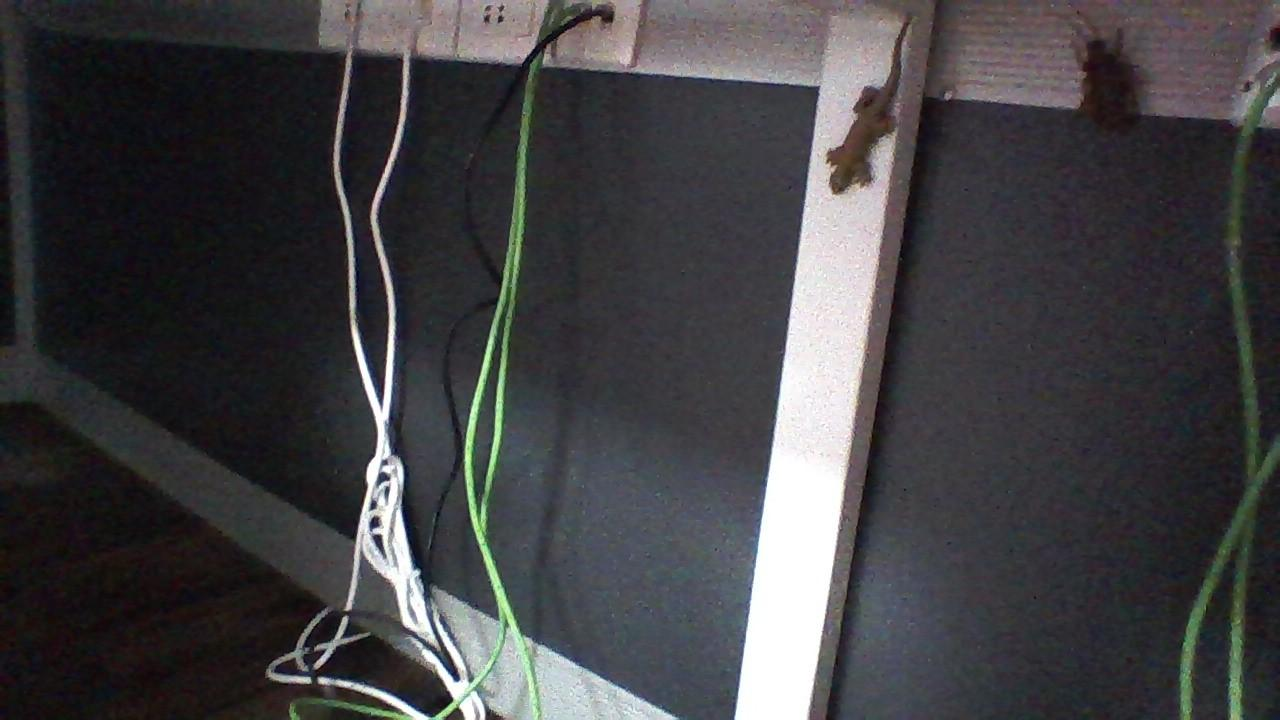cockroach: (1023, 0, 1157, 138)
lizard: (817, 13, 922, 220)
